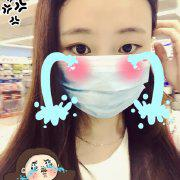OK: (61, 14, 164, 117)
